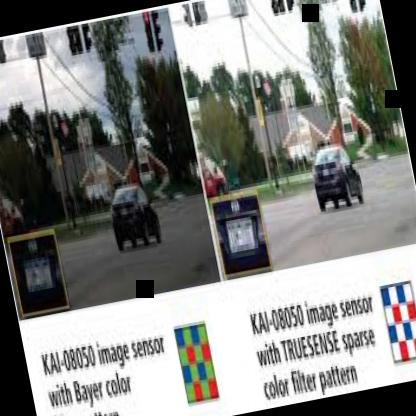car: (292, 121, 375, 228), (89, 167, 168, 265)
